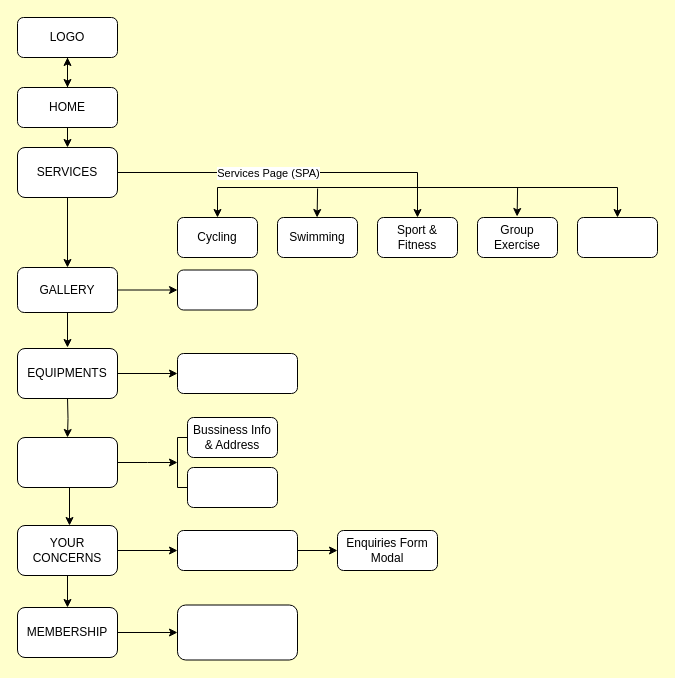
Image size: 675x678. Some labels were removed from this diagram. Here are the shapes that lost their labels. From the top down, the box of each, then its label:
(576, 216, 658, 258): Salon & Spa
(176, 269, 258, 310): Gallery Page
(176, 352, 298, 394): Equipments & descriptions
(16, 436, 118, 488): ABOUT US
(186, 466, 278, 508): Contact Us Page
(176, 530, 298, 570): FAQs Page
(176, 604, 298, 660): Membership Benefits & Register Modal
